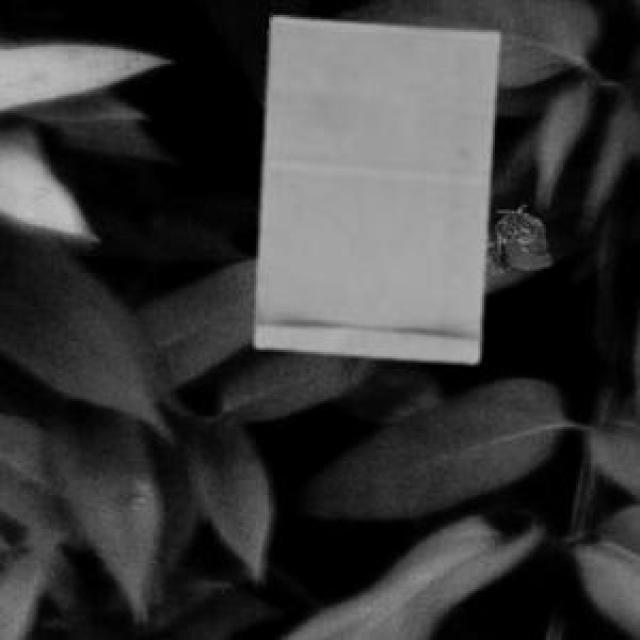miscellaneous trash: (481, 207, 548, 271)
paper: (252, 13, 495, 358)
